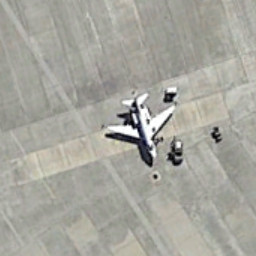Airplane: (88, 78, 183, 174)
